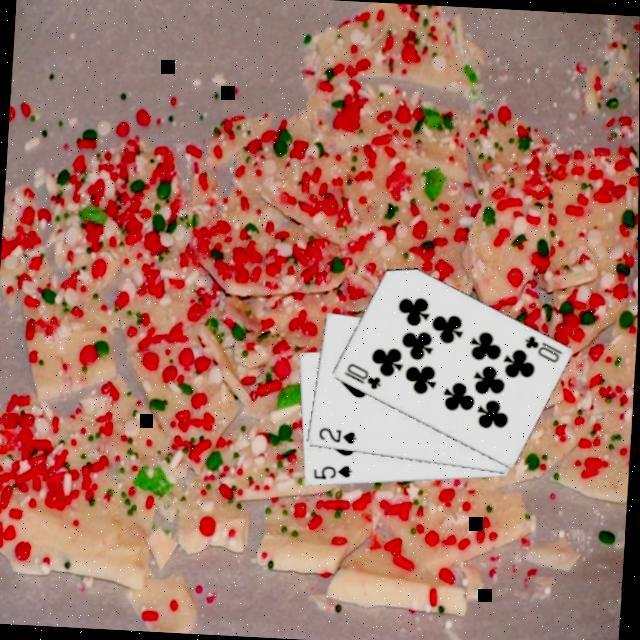10C: (339, 358, 385, 392), (520, 332, 566, 366)
2S: (314, 423, 360, 446)
5S: (310, 460, 354, 483)
